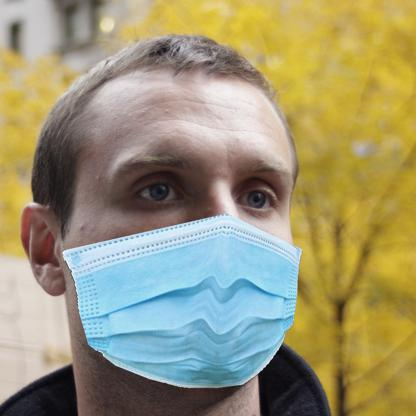mask: (53, 211, 307, 398)
